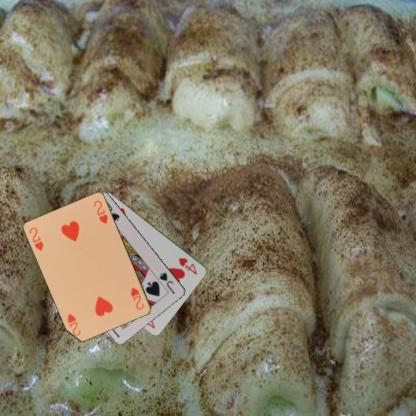2h: (26, 225, 44, 252), (128, 285, 146, 311)
4h: (176, 255, 199, 276)
Js: (156, 270, 177, 295)
